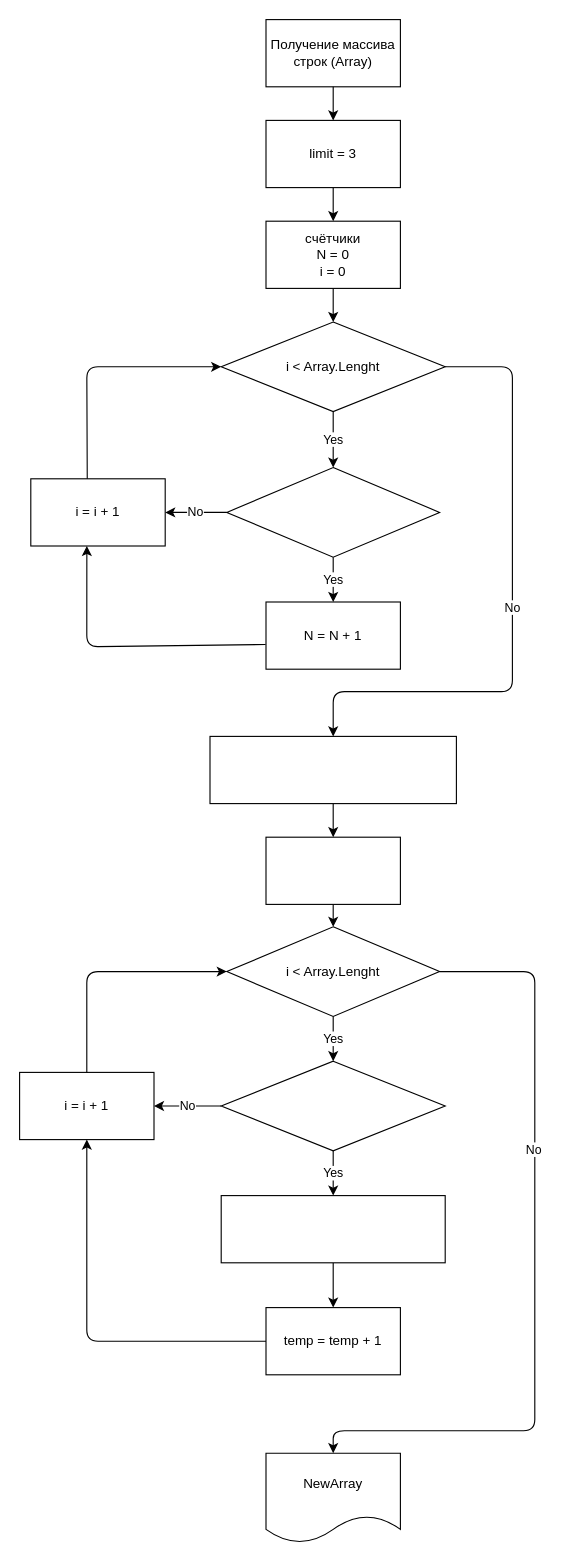
Image size: 563x1562. Some labels were removed from this diagram. The box of each missing label's shape, as (x1, y1, x2, y2) in pixels:
Array [ i ] <= limit: (220, 1060, 445, 1151)
Array[ i ] <= limit: (226, 466, 440, 557)
NewArray [ temp ] = array [ i ]: (220, 1194, 445, 1263)
Инициализация нового массива (NewArray), размером N: (209, 735, 456, 804)
счётчики temp = 0 i = 0: (265, 836, 400, 904)
